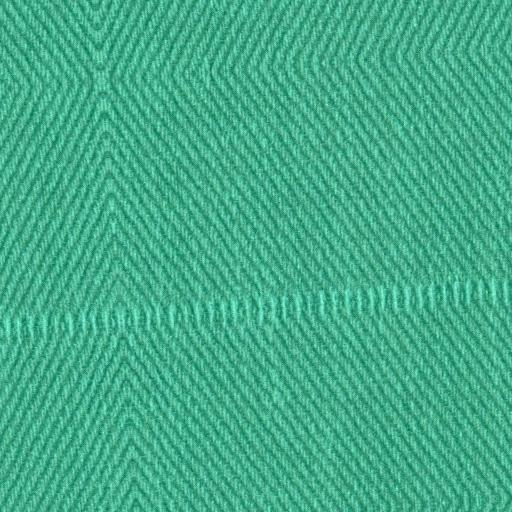slub: (0, 276, 510, 357)
